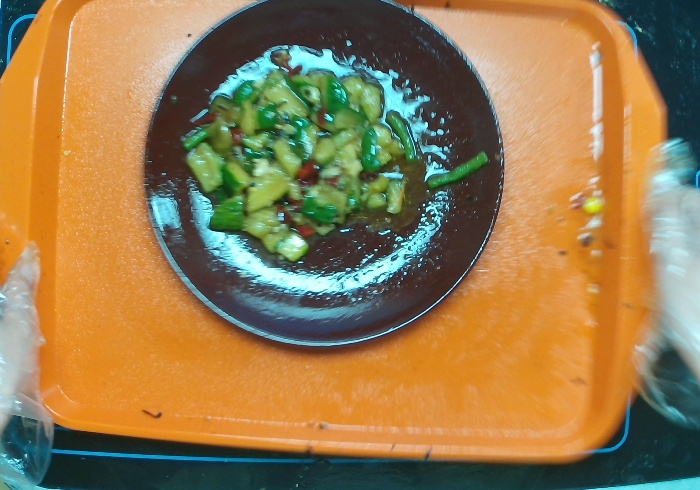HZYJPL-Ka_Fei_Yuan_Pan: (135, 1, 510, 362)
